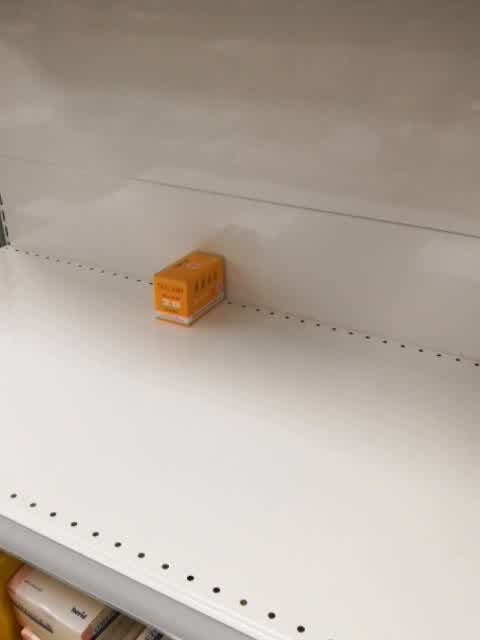jasminetea: (151, 249, 227, 327)
